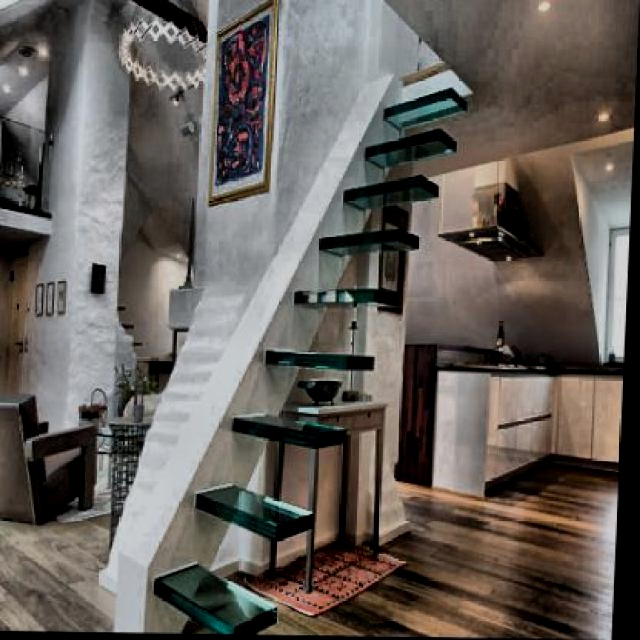stair: (155, 80, 468, 637)
